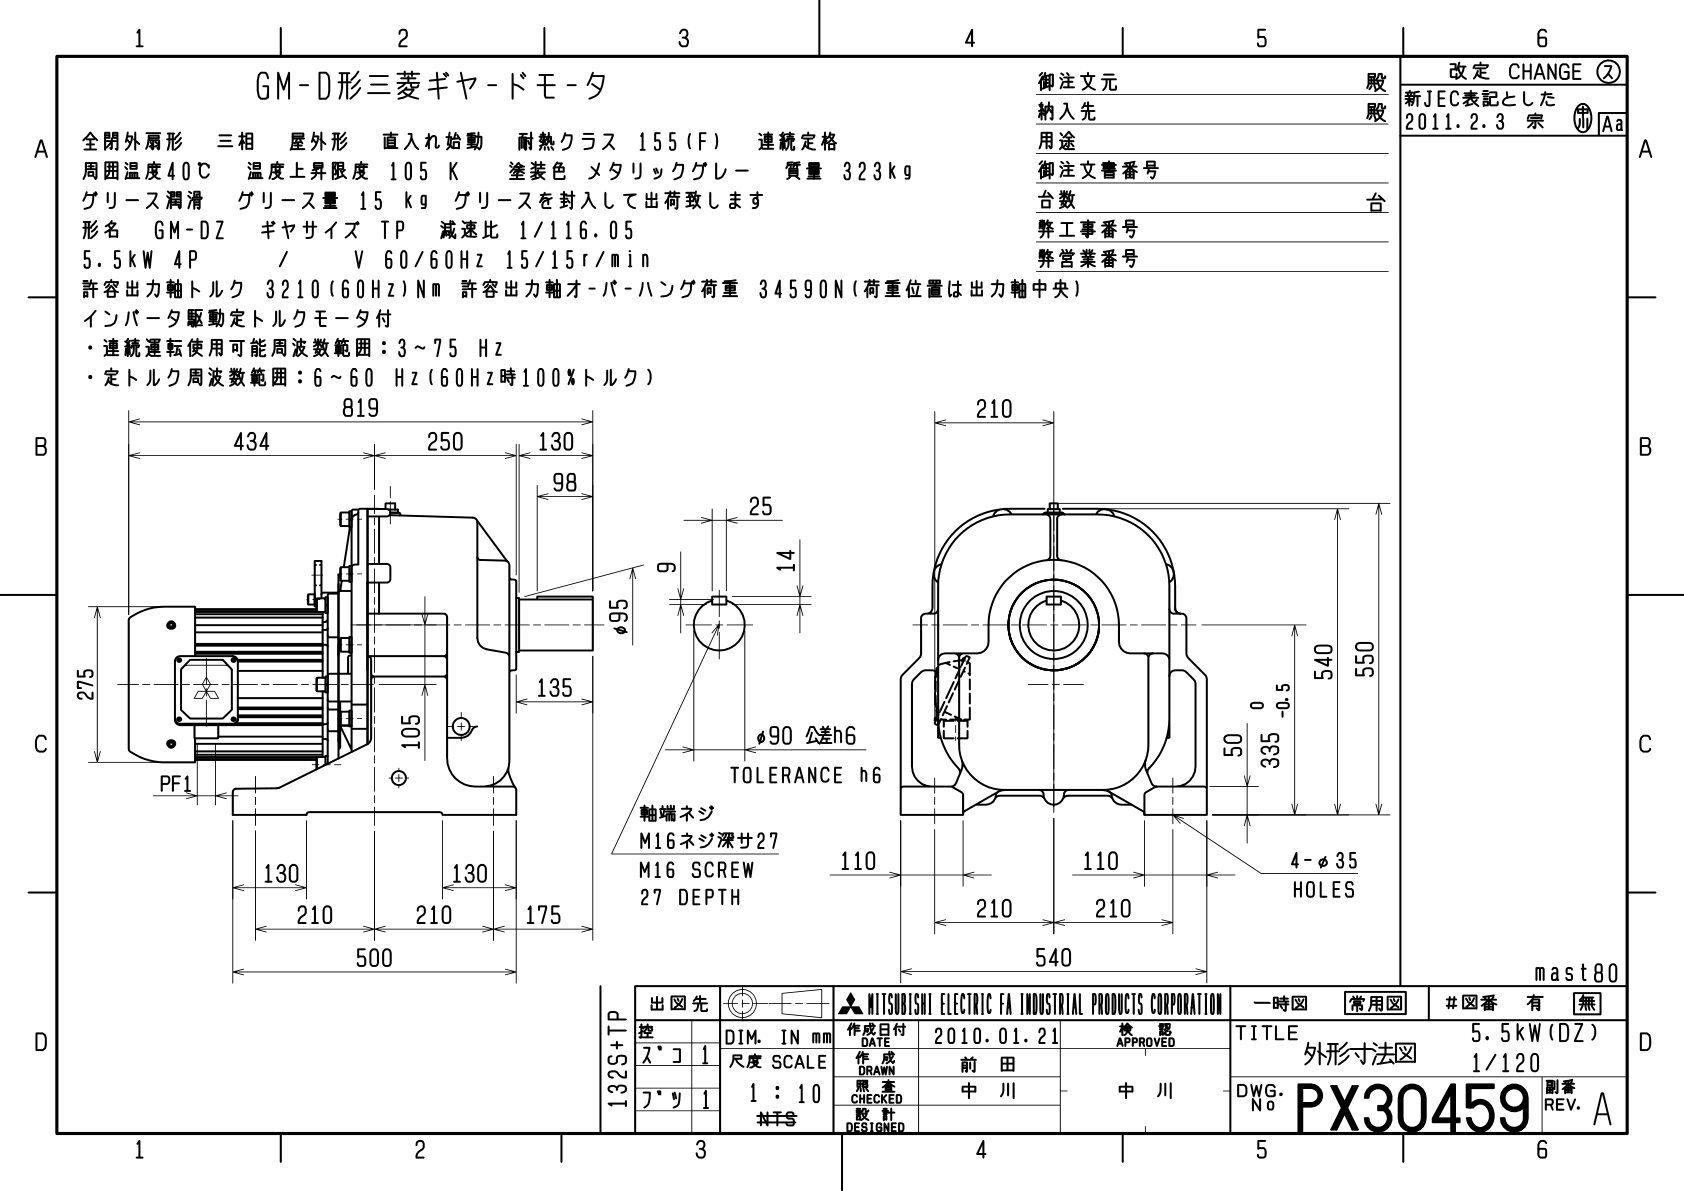GM_D_インバータ屋外_三相_脚: (61, 388, 1399, 986)
